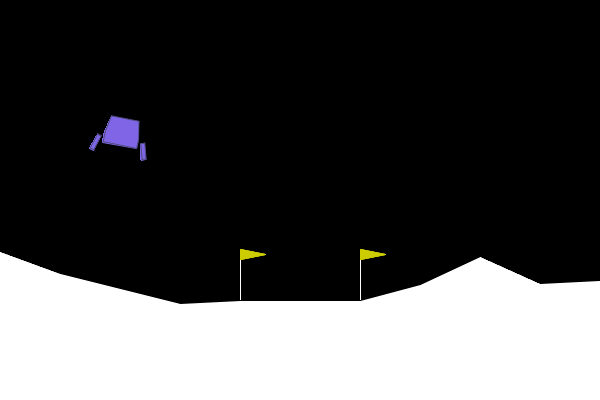lander: (88, 111, 155, 162)
